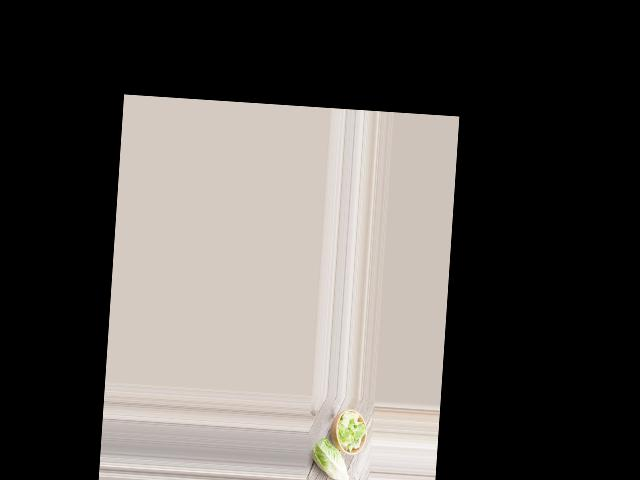lettuce: (309, 437, 352, 480)
